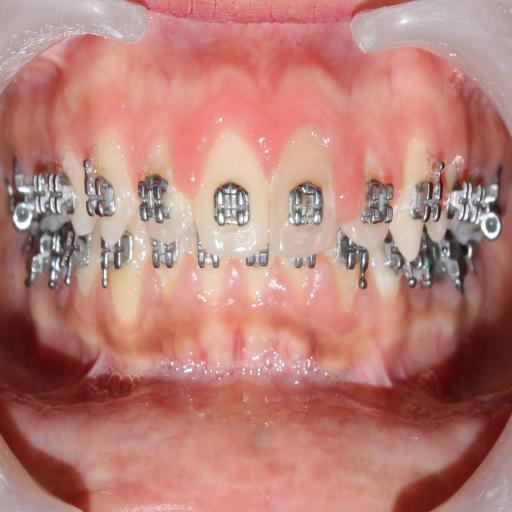correct_brace: (213, 177, 254, 231), (136, 174, 176, 226), (284, 181, 325, 229), (362, 172, 392, 226)
incorrect_brace: (134, 147, 191, 243), (341, 153, 392, 249)
